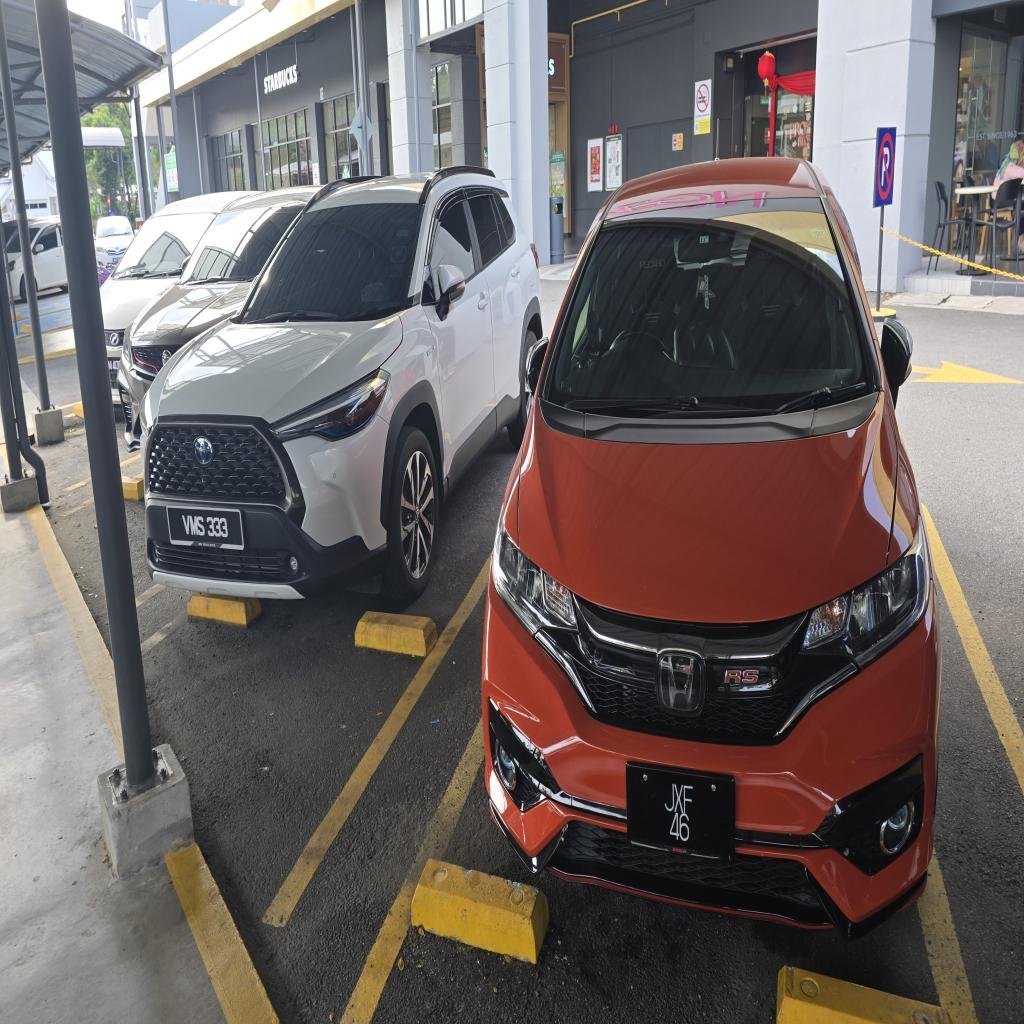car: (482, 159, 940, 936), (141, 169, 540, 600)
car plate: (627, 763, 734, 858), (167, 506, 243, 549)
